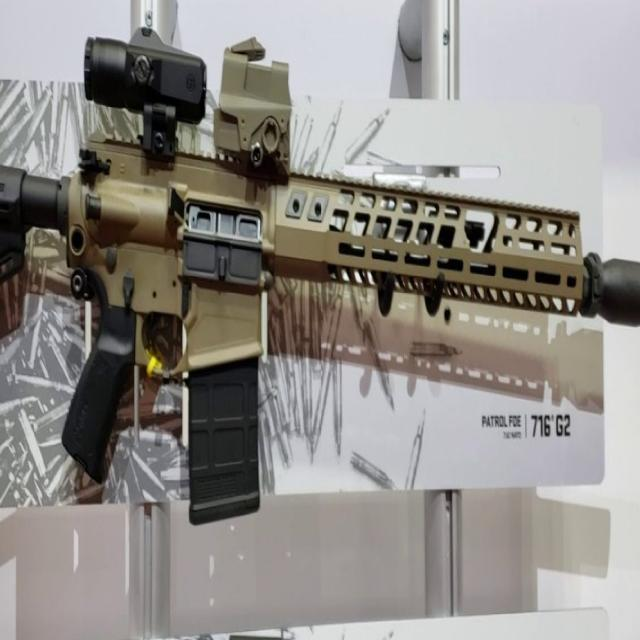Weapon: (0, 28, 640, 523)
